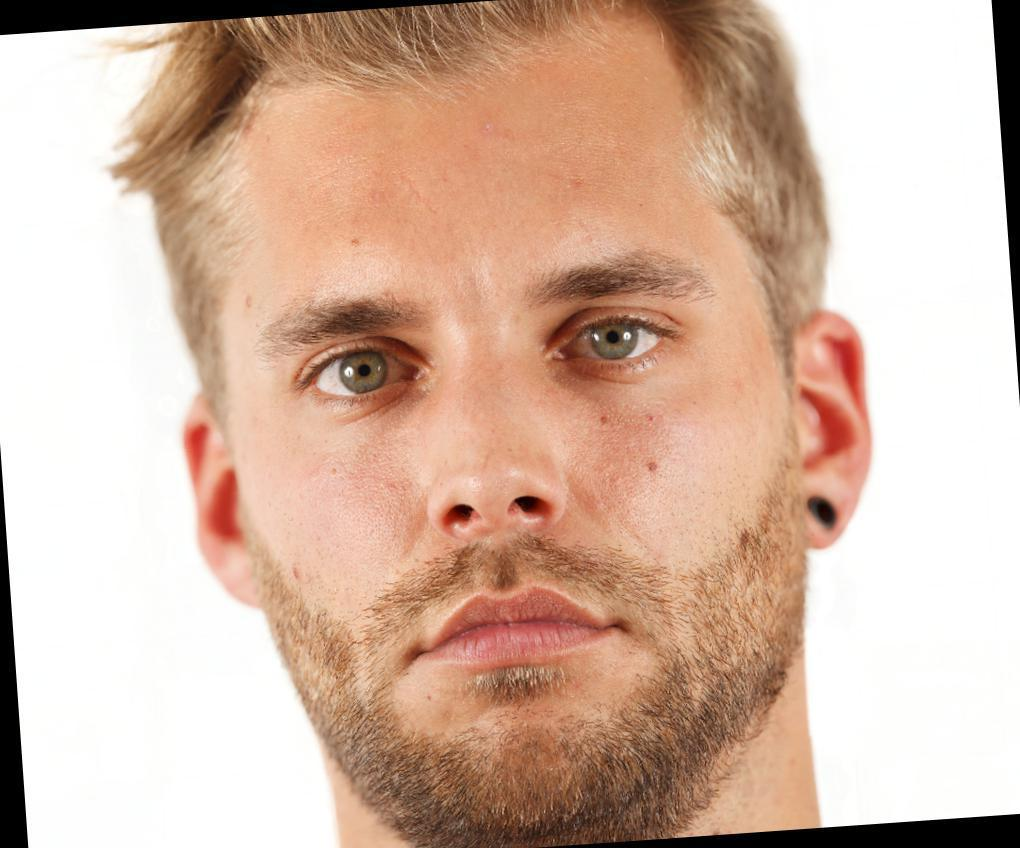Sober: (239, 124, 778, 726)
